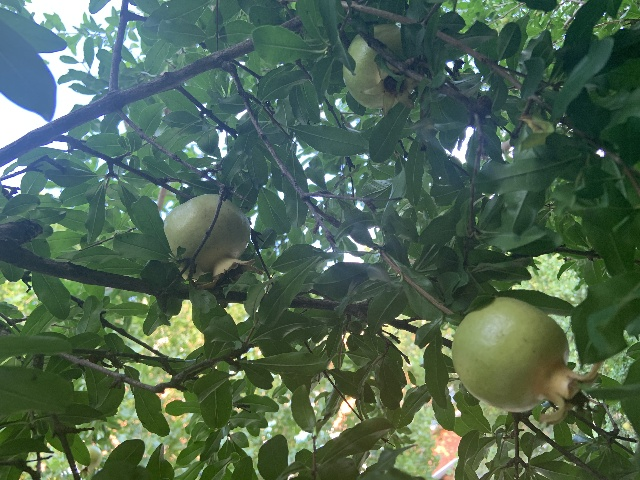mid-growth: (452, 297, 603, 426), (163, 193, 262, 290), (342, 23, 418, 115)
